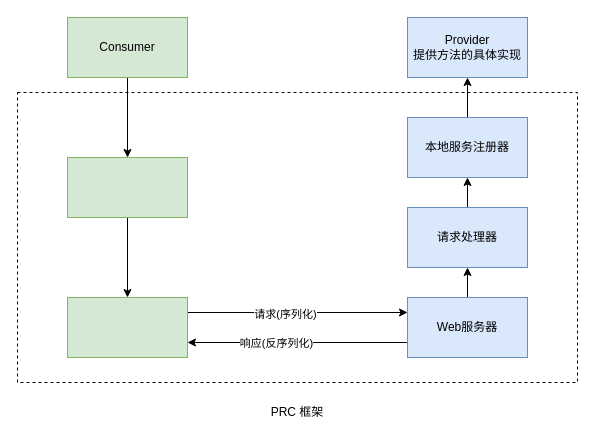
The diagram is 595 pixels wide and 445 high, and some of its shapes have lost their labels. Here are the shapes that lost their labels. From the top down, the centre of each, then its label:
At pixel 127 187: "代理对象".
At pixel 127 327: "请求客户端 HTTP/其他".
